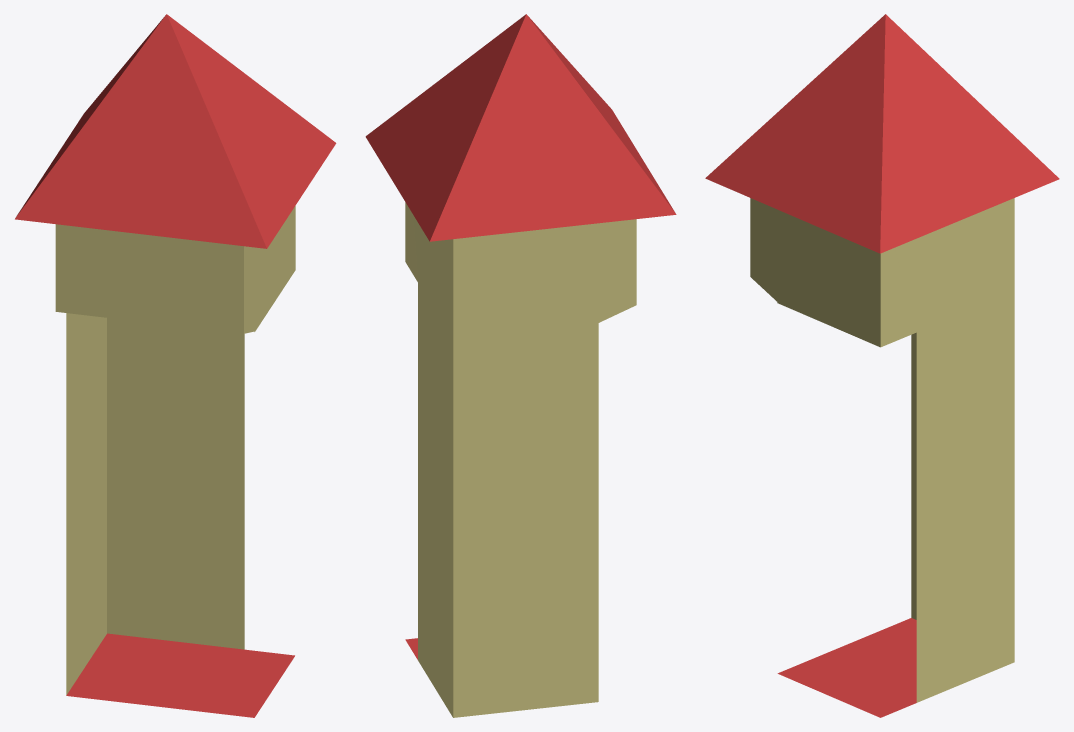
3 views of the same model, side by side, from view 1: azimuth 30°, elevation 25°; view 2: azimuth 150°, elevation 25°; view 3: azimuth 270°, elevation 25° (orthographic). The views are drawn at different scales.
Parts seen in each view (by area): view 1: group_5, group_3, group_6, group_4; view 2: group_5, group_3, group_4; view 3: group_5, group_3, group_4, group_6.
Boxes of the visible parts, bbox=[...] form: group_5: bbox=[55, 206, 295, 694]; group_3: bbox=[15, 14, 322, 248]; group_6: bbox=[66, 633, 294, 717]; group_4: bbox=[16, 112, 336, 248]; group_5: bbox=[405, 202, 636, 717]; group_3: bbox=[405, 14, 676, 241]; group_4: bbox=[365, 106, 647, 241]; group_5: bbox=[750, 198, 1014, 702]; group_3: bbox=[709, 14, 1057, 253]; group_4: bbox=[705, 138, 1059, 253]; group_6: bbox=[777, 618, 916, 717].
Size of the model in its own units: 8.31 by 8.31 by 16.65.
